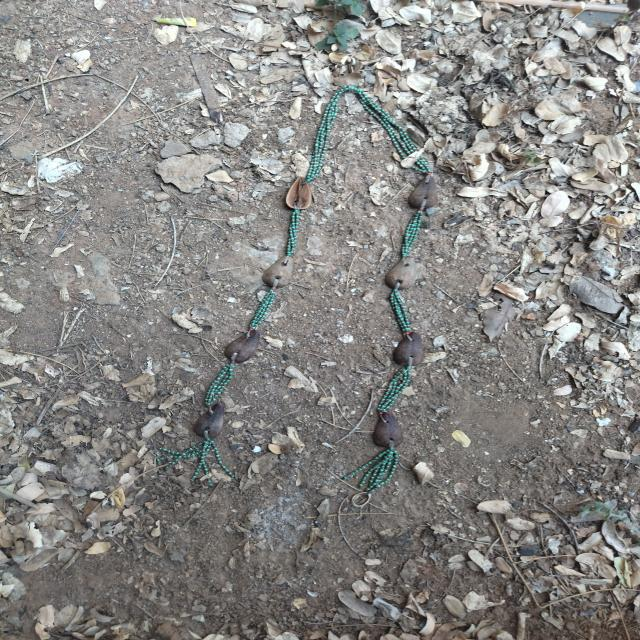facedown: (214, 323, 269, 370), (186, 397, 236, 446), (404, 164, 446, 218), (378, 249, 426, 296), (369, 405, 411, 457), (254, 251, 302, 295), (388, 325, 430, 373)
faceup: (280, 172, 319, 216)
